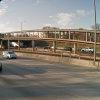Car: (3, 46, 18, 67)
